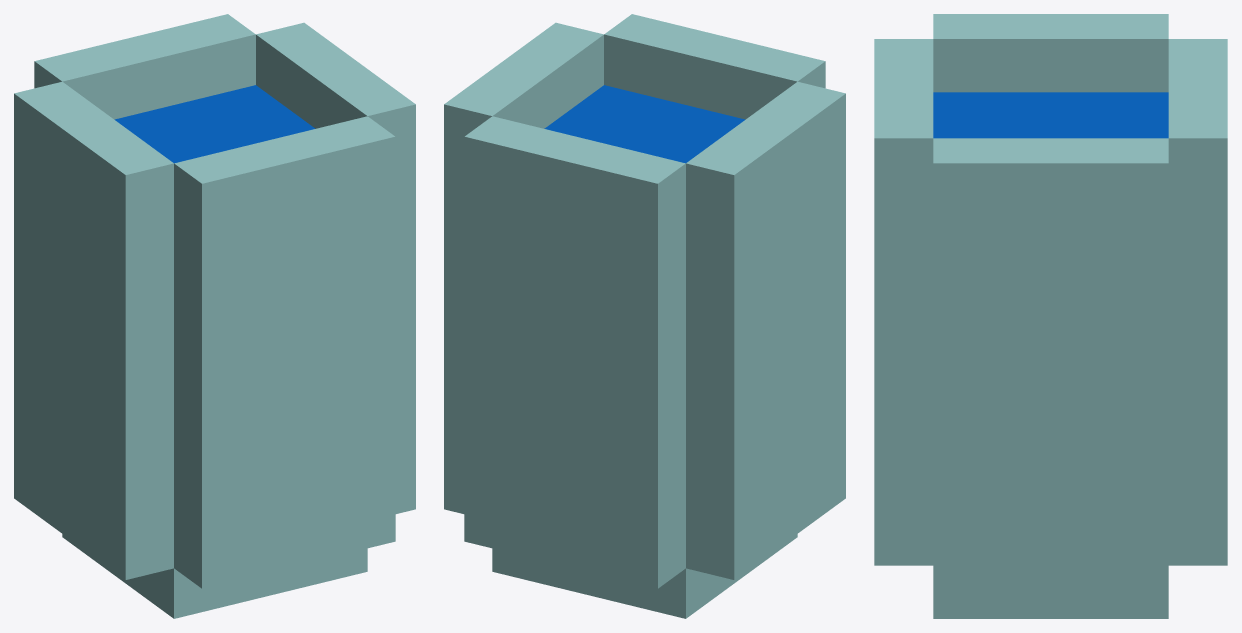
File: prop_glass_water.glb
The picture shows the model from 3 angles, left to right: view 1: azimuth 30°, elevation 25°; view 2: azimuth 150°, elevation 25°; view 3: azimuth 270°, elevation 25°; orthographic projection. The views are drawn at different scales.
Parts seen in each view (by area): view 1: prop_glass_water; view 2: prop_glass_water; view 3: prop_glass_water.
Part boxes in pixels (x1,y1,x2,y2): prop_glass_water: (14,14,415,618); prop_glass_water: (444,14,845,618); prop_glass_water: (874,14,1227,618).
Bounding box in the file's own units: 0.6 × 0.9 × 0.6.
Materials: 1 (1 with a texture image).
